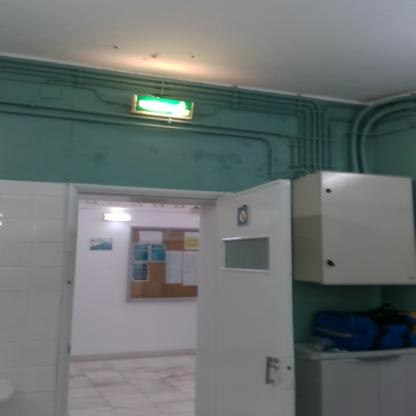open: (57, 171, 302, 416)
